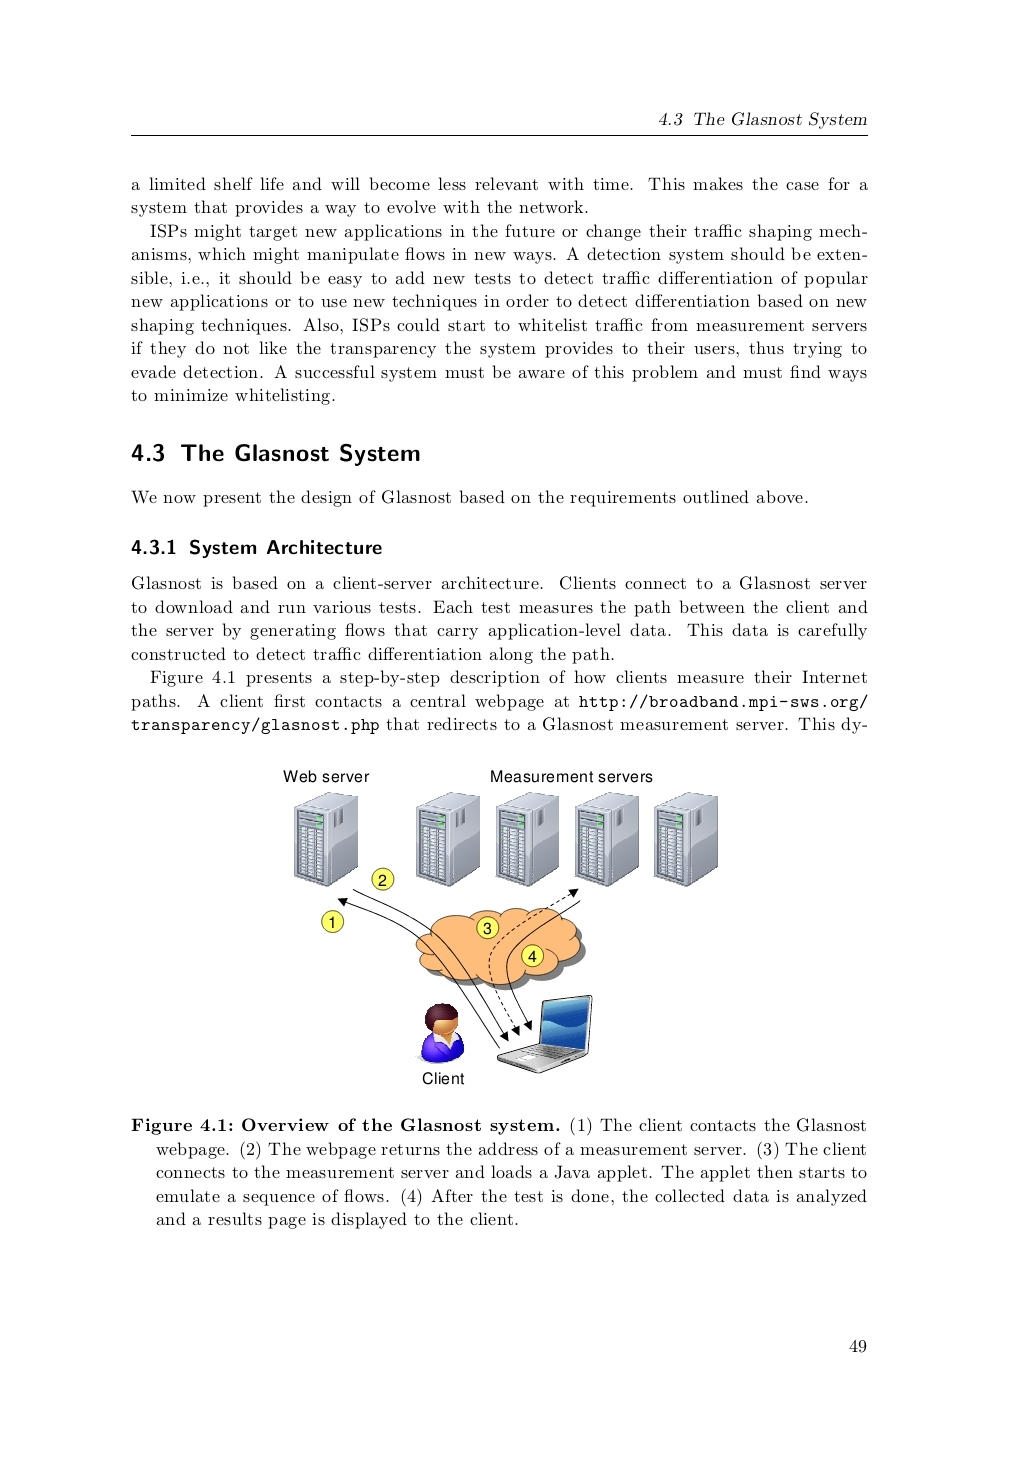figure: (293, 791, 717, 1085)
